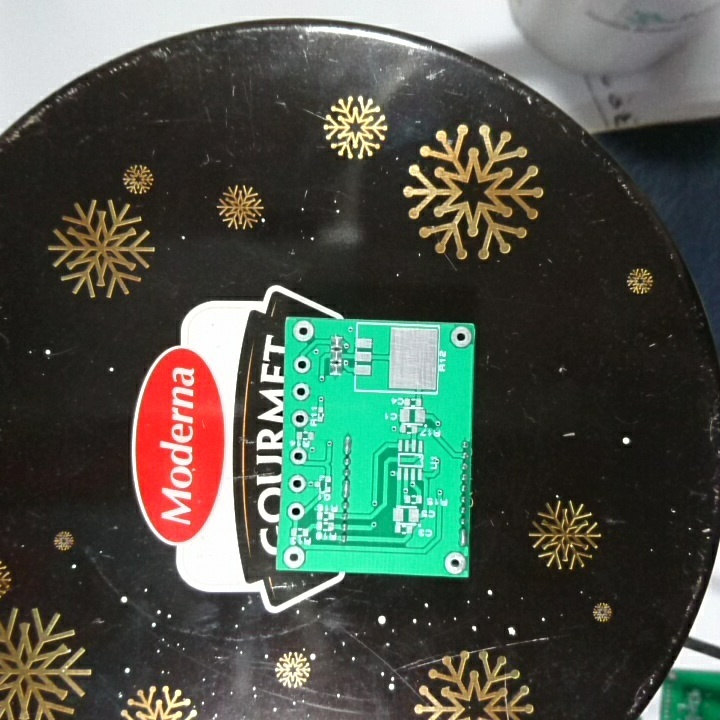F: (280, 543, 308, 571), (441, 549, 467, 575), (448, 325, 474, 350), (291, 319, 314, 343), (283, 499, 307, 522), (285, 472, 308, 495), (291, 380, 312, 403), (292, 353, 312, 376), (289, 408, 310, 429), (288, 445, 308, 467)
P: (342, 434, 355, 457), (340, 478, 354, 499), (455, 526, 468, 547)
